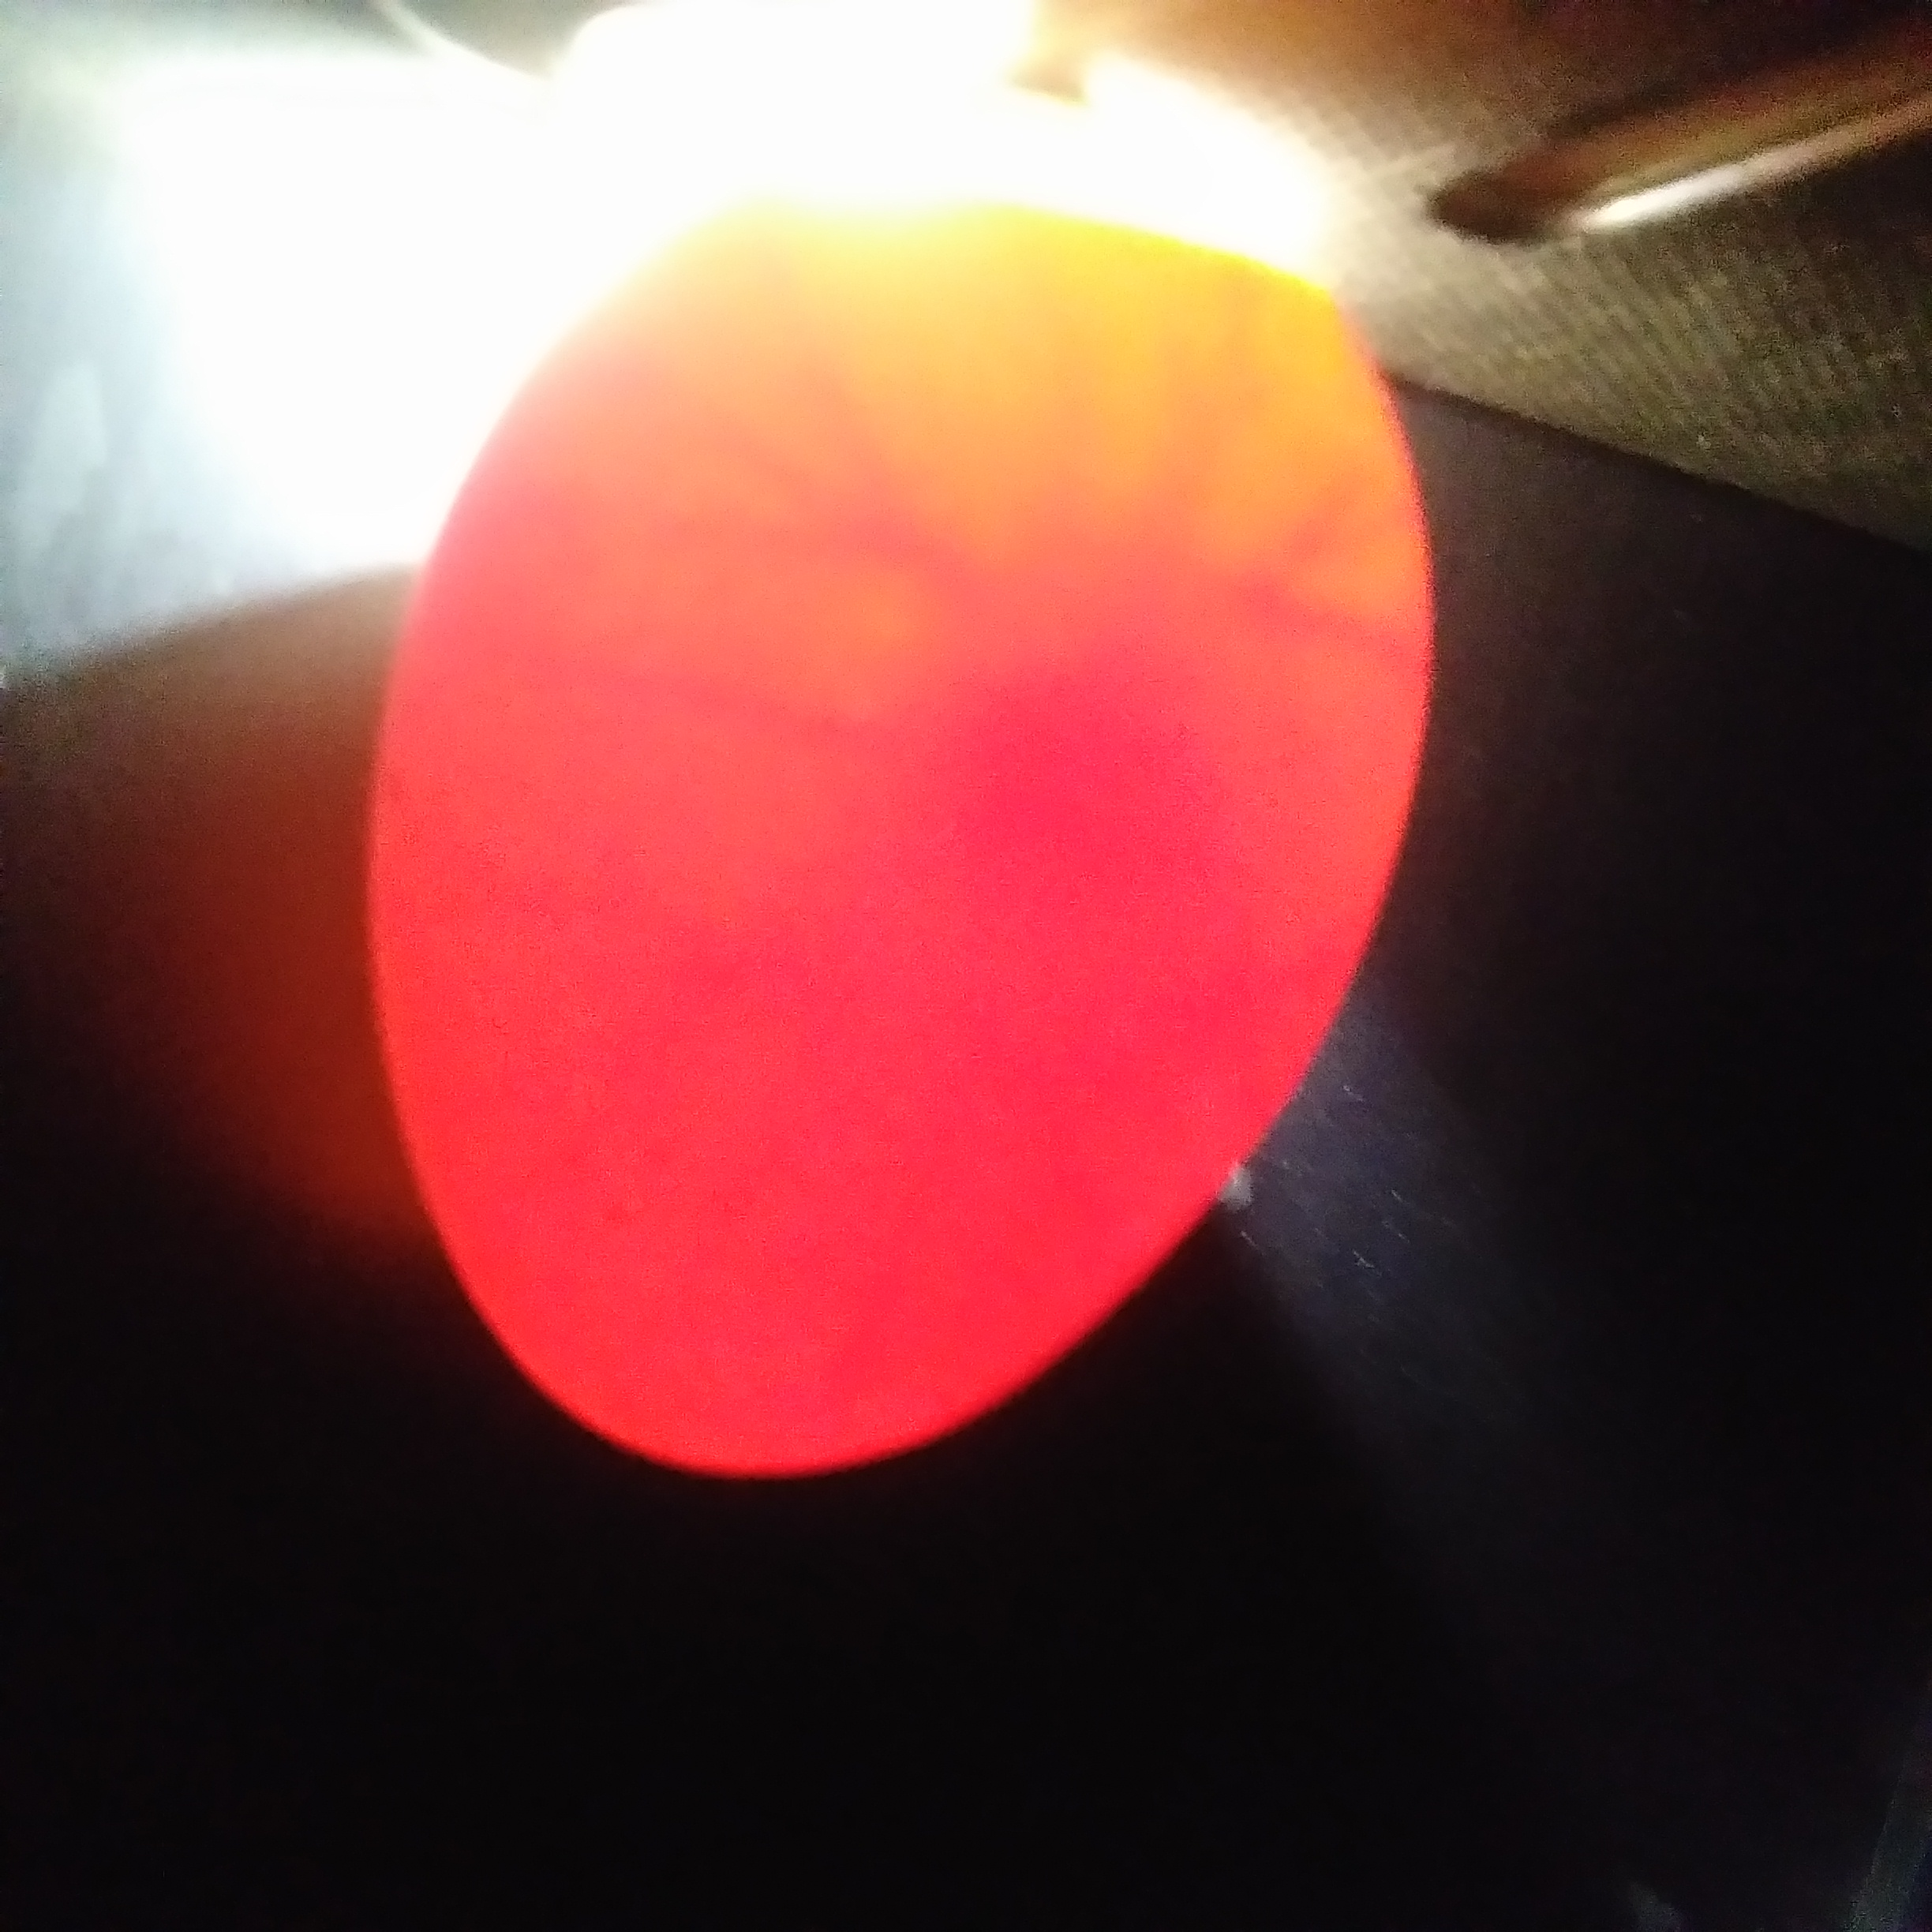bloodcell: (665, 364, 970, 678), (1106, 364, 1348, 609)
